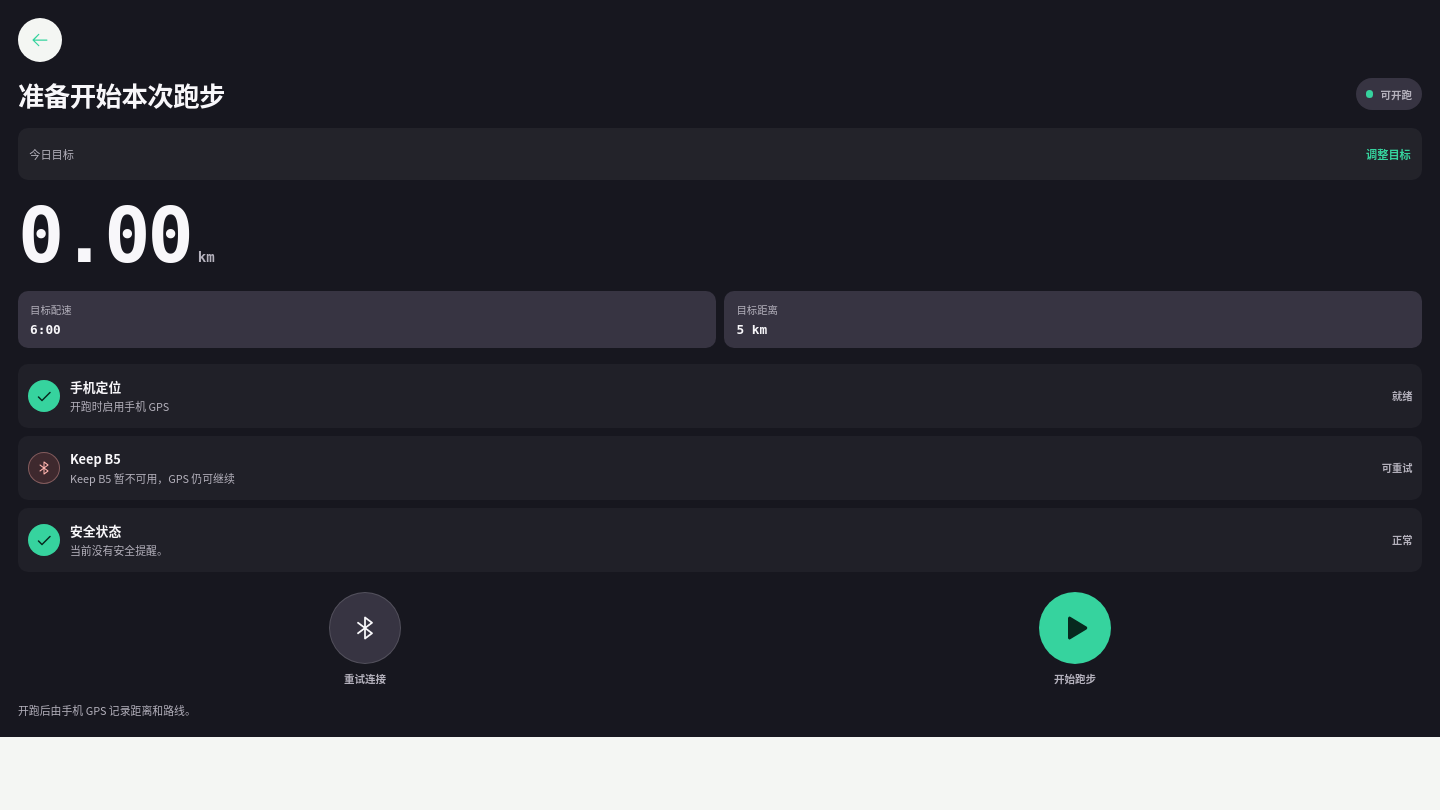
Test: 跑步页真实数据 › 手环错误时提供重试且展示连接请求失败
Click the button named "重试连接手环" at [365, 628], box [329,592,401,664]
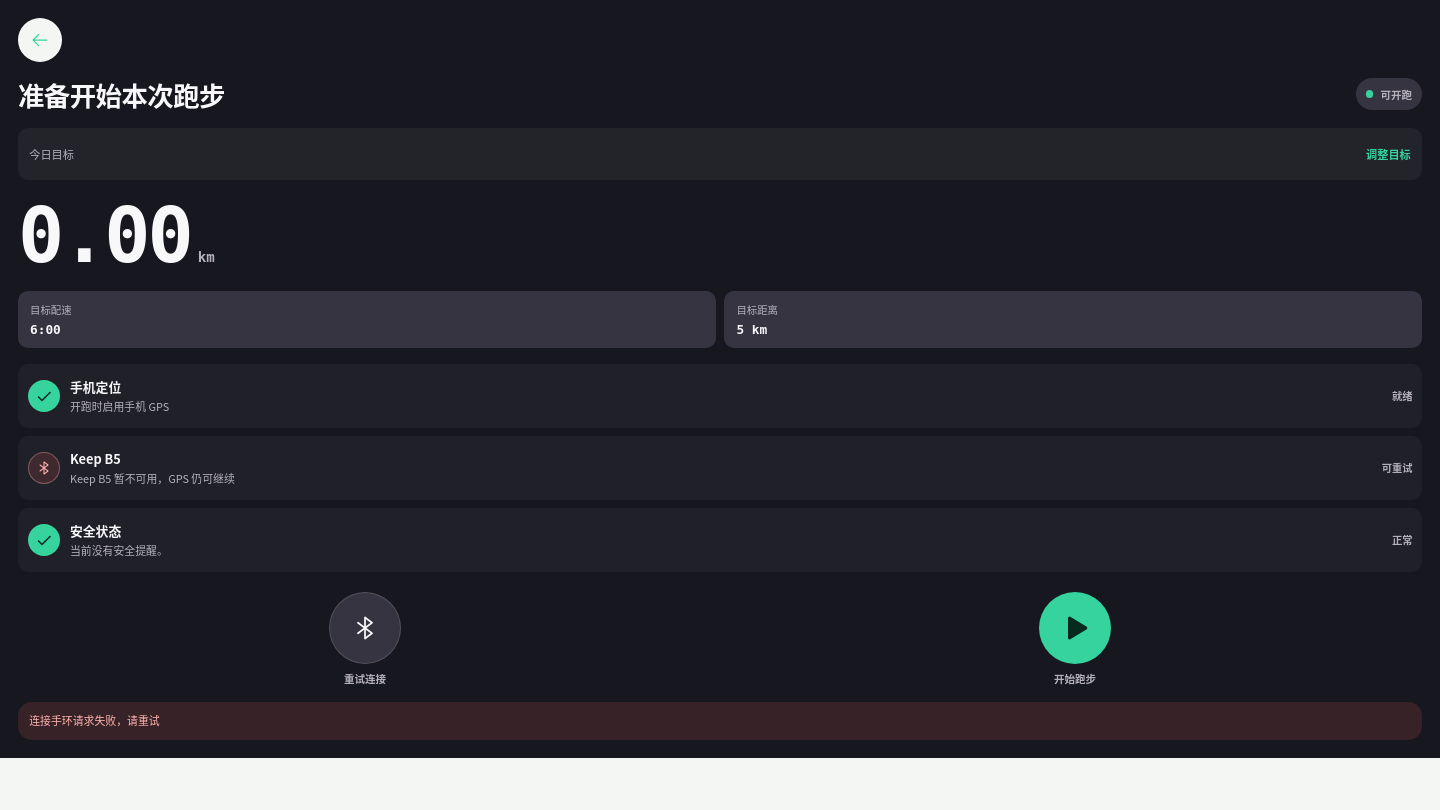
expect the text "连接手环请求失败，请重试" is shown: met, box [18,702,1422,740]
